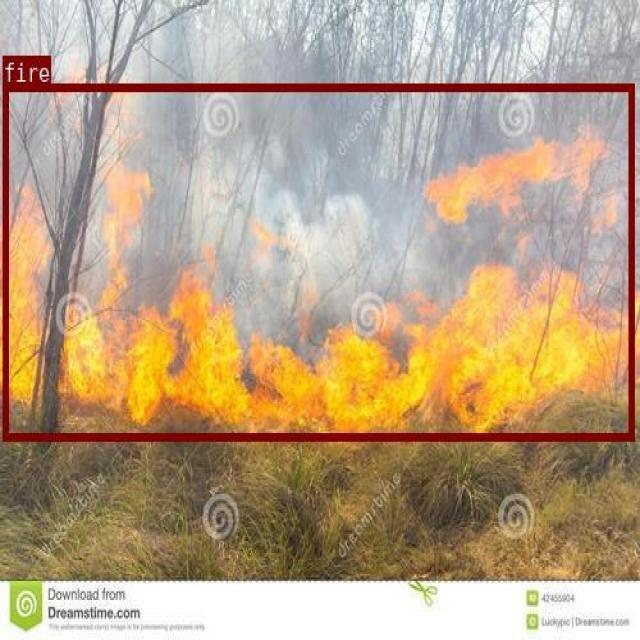fire: (2, 83, 633, 439)
